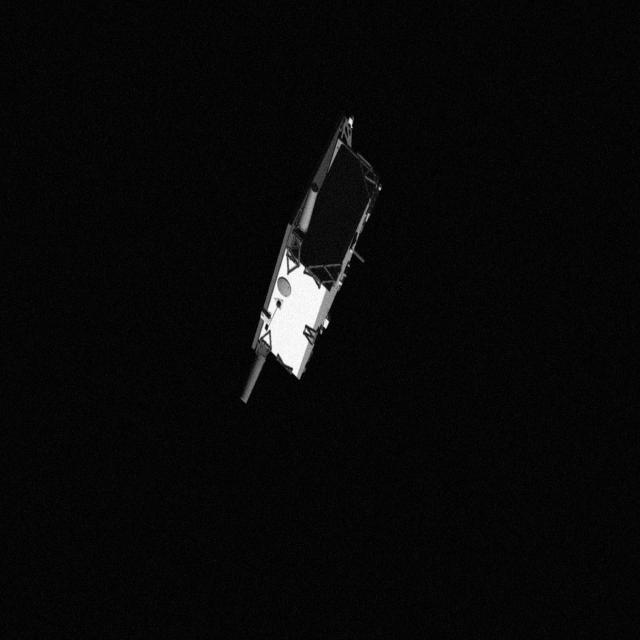satellite: (228, 108, 390, 432)
